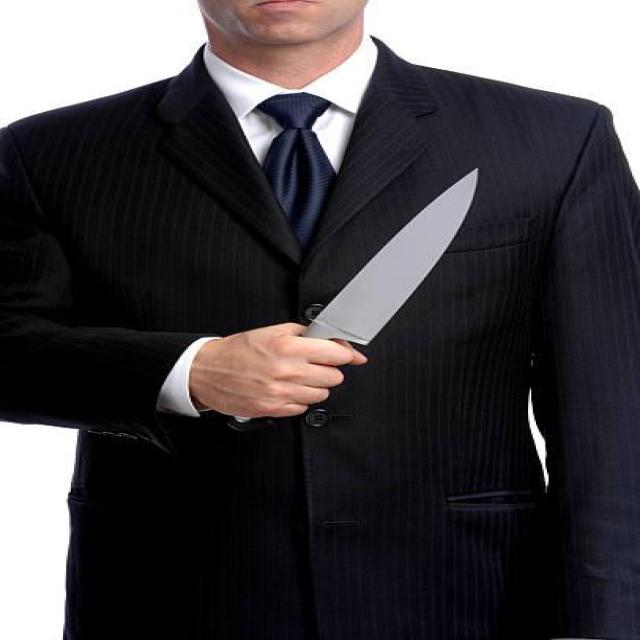faca: (206, 164, 488, 447)
